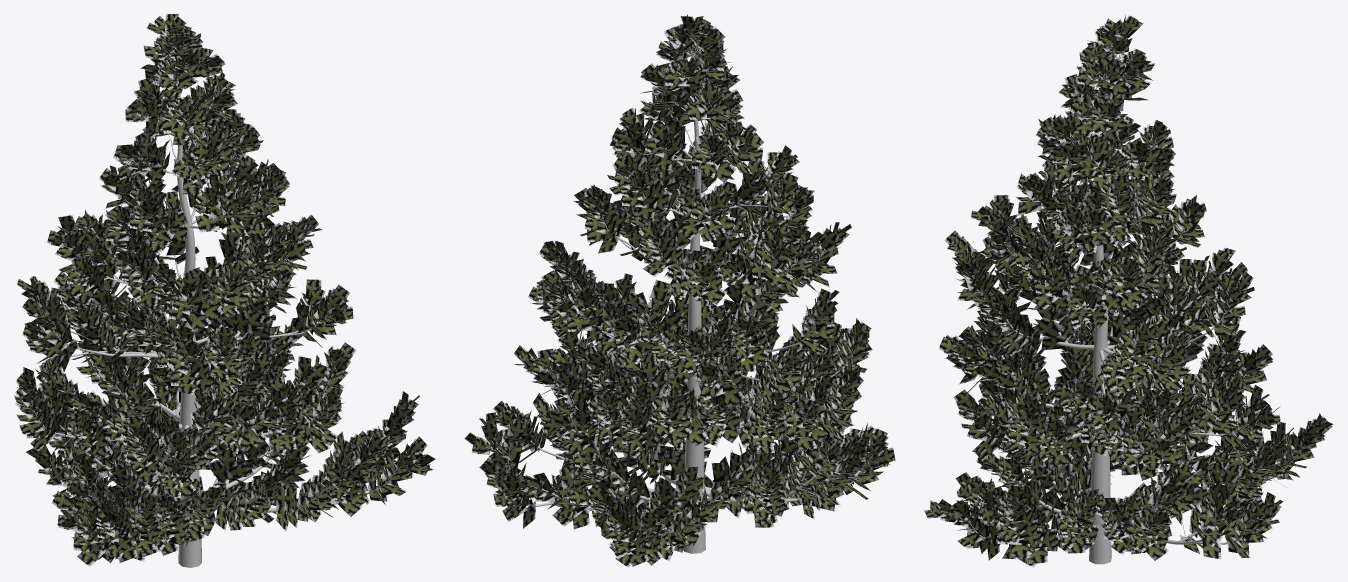
The model's file is PineTree.fbx.
3 views of the same model, side by side, from view 1: azimuth 30°, elevation 25°; view 2: azimuth 150°, elevation 25°; view 3: azimuth 270°, elevation 25° (orthographic).
Visible parts, largest first — view 1: leaves, tree; view 2: leaves, tree; view 3: leaves, tree.
Boxes of the visible parts, left/top/right/bottom form: leaves: left=14, top=14, right=435, bottom=566; tree: left=28, top=33, right=418, bottom=567; leaves: left=464, top=14, right=895, bottom=567; tree: left=485, top=38, right=880, bottom=553; leaves: left=924, top=15, right=1333, bottom=567; tree: left=941, top=32, right=1296, bottom=564.
Bounding box in the file's own units: 341 × 494 × 340.
